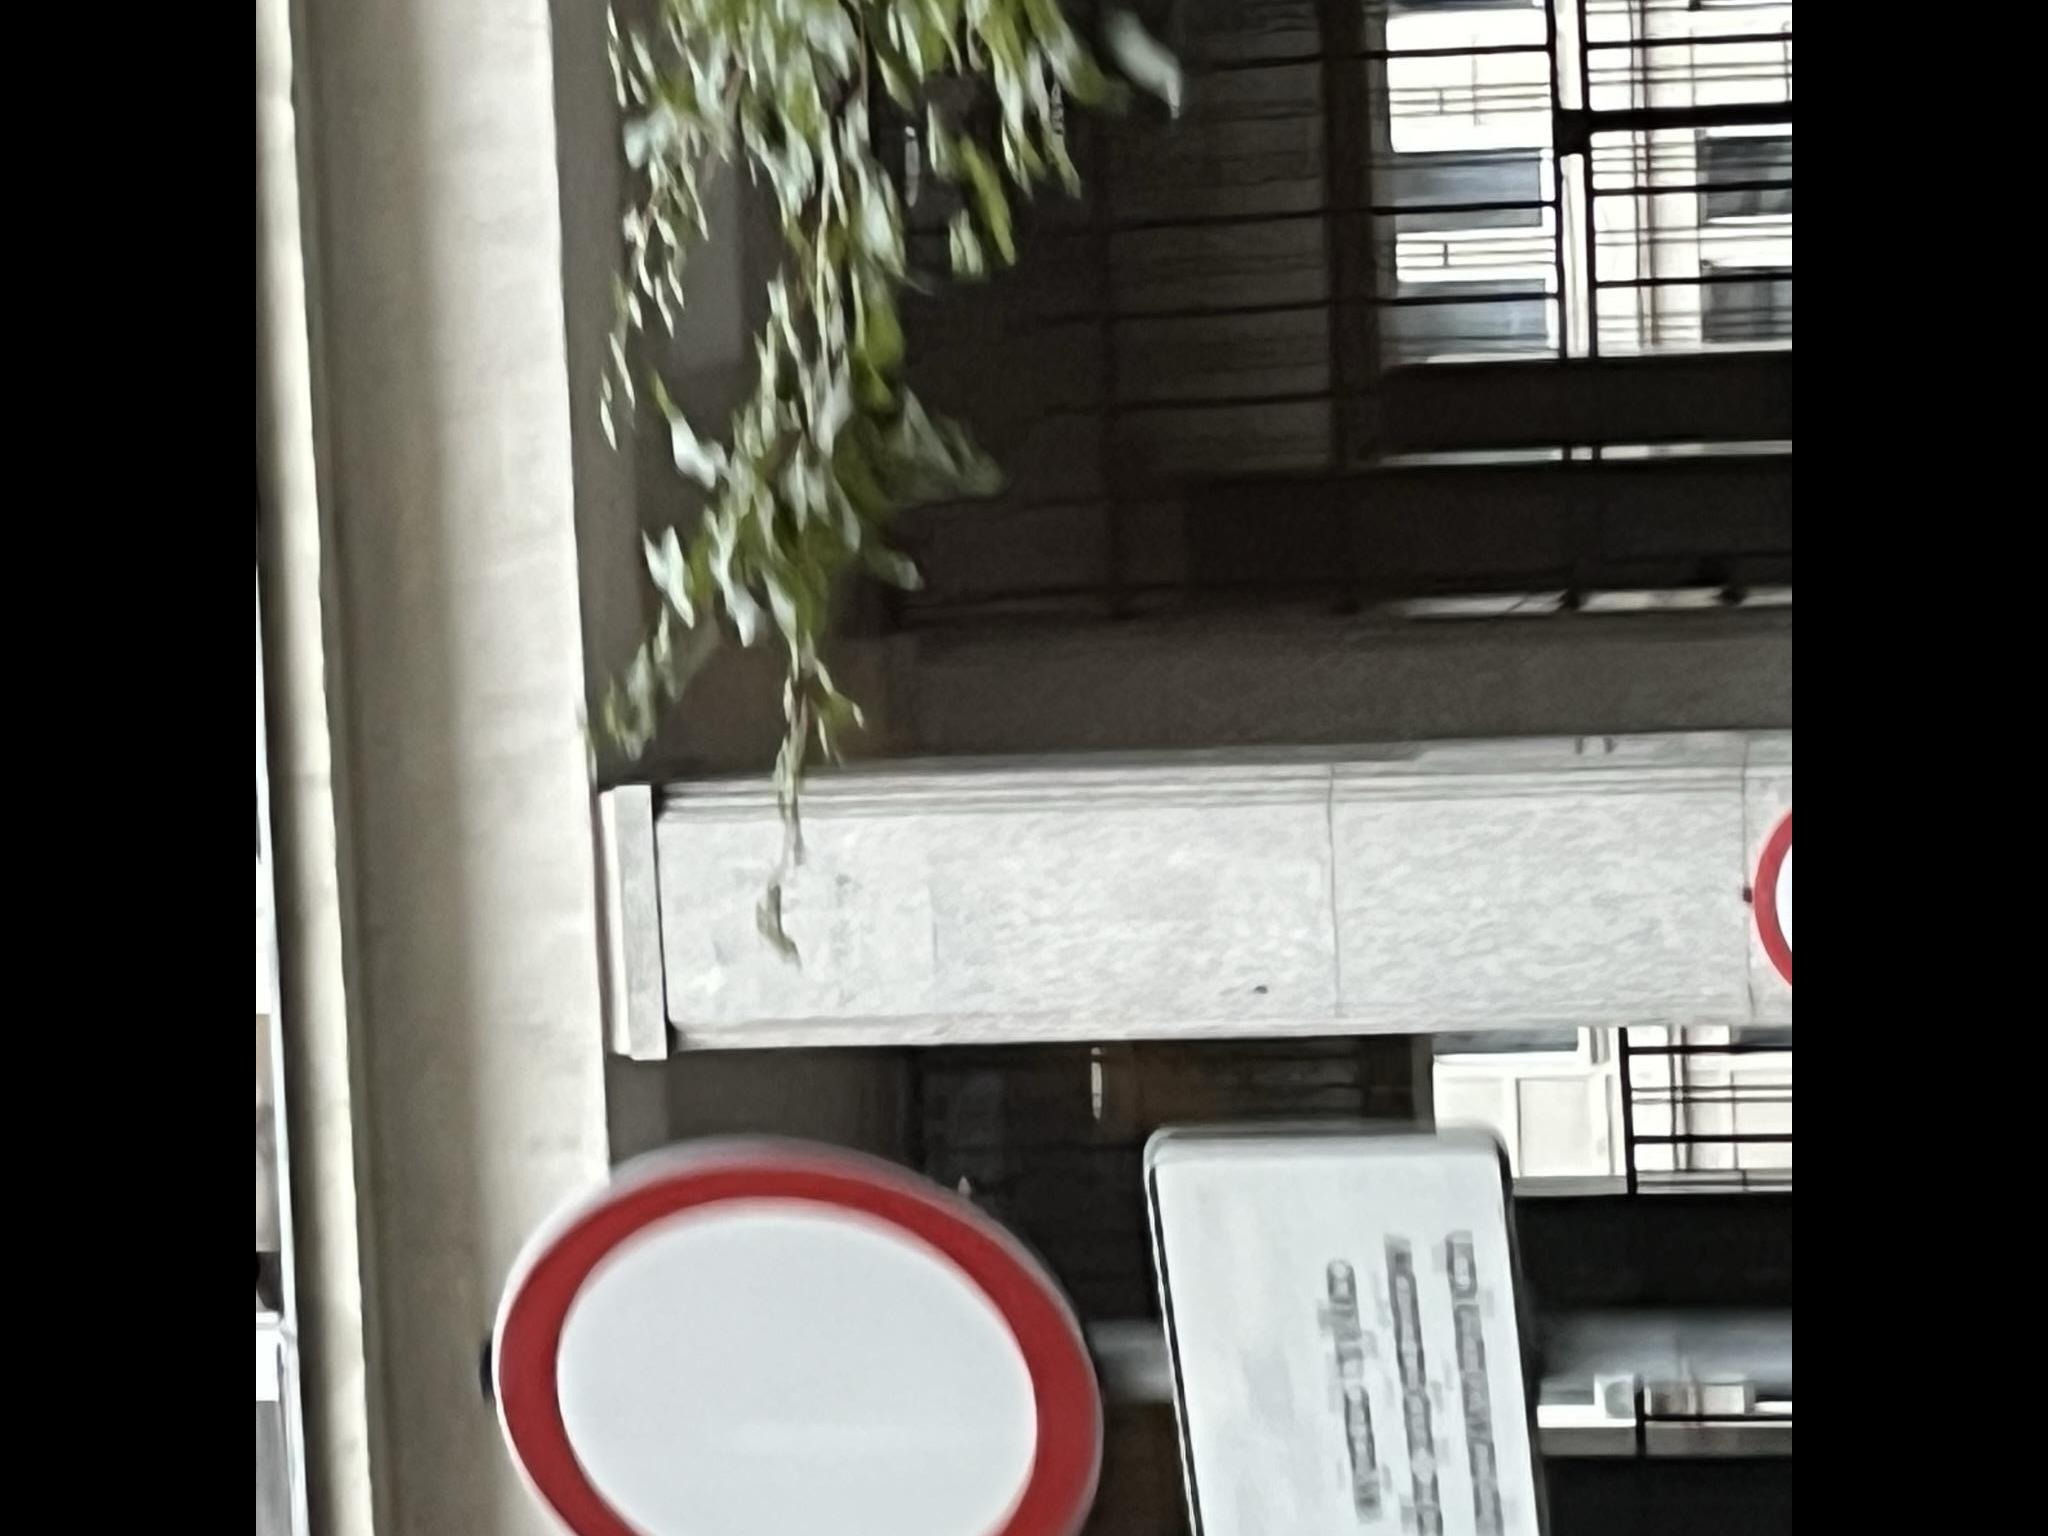other: (1147, 1125, 1551, 1536)
prohibitory: (485, 1133, 1109, 1536), (1756, 803, 1792, 986)
